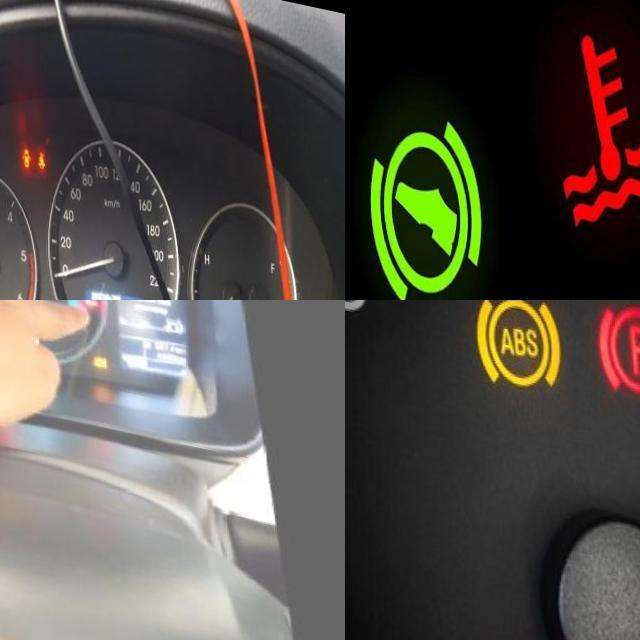Doors: (21, 135, 30, 156)
High Engine Coolant Temperature: (550, 0, 640, 222)
